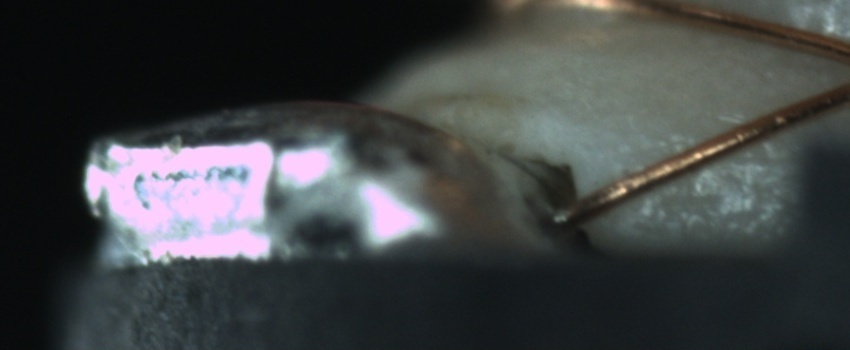DL: (664, 132, 789, 183)
